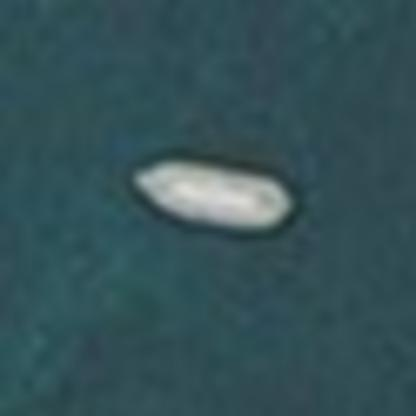ship: (116, 142, 314, 251)
